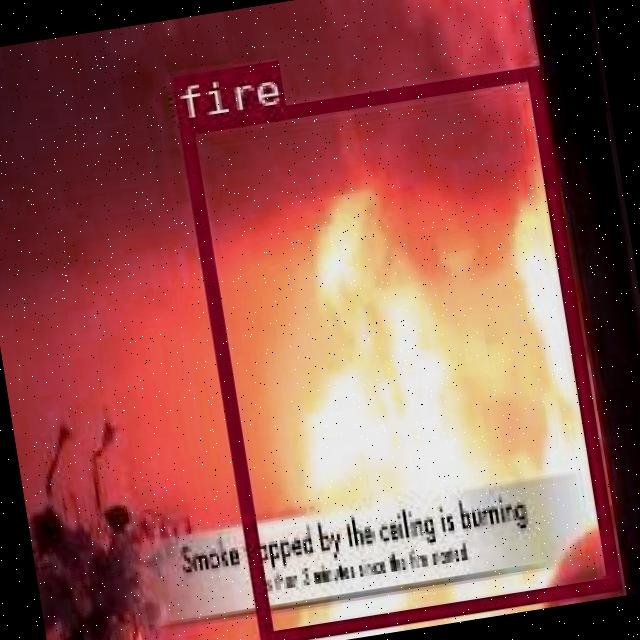fire: (178, 66, 617, 640)
